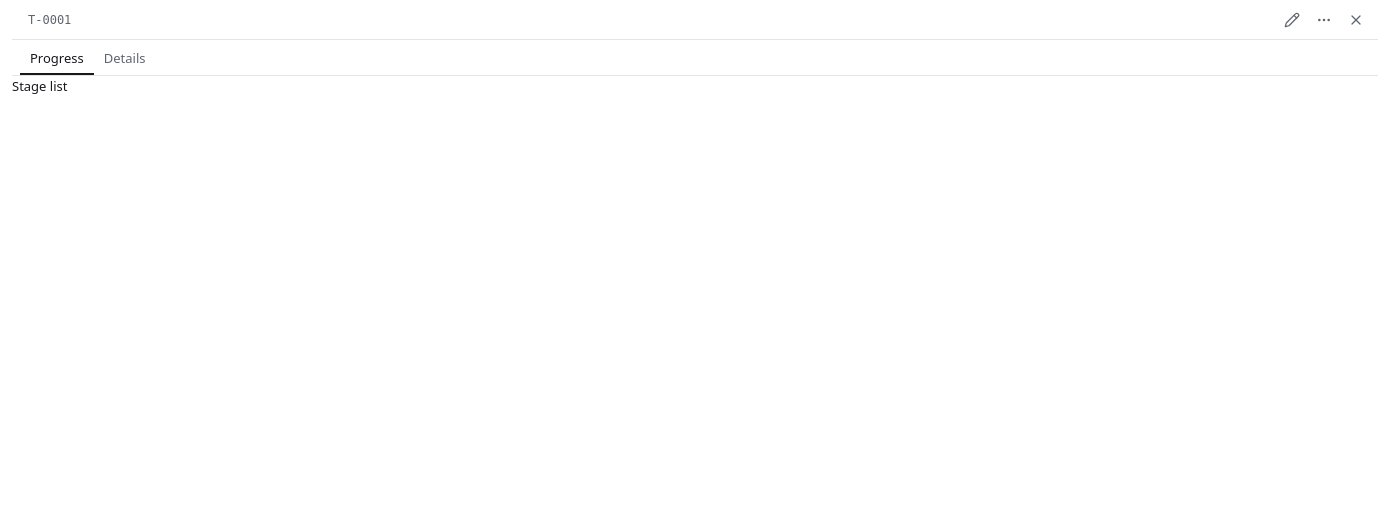
it: TaskDetail views › shows the edit form over the progress view
Click the button named "Edit" at {"x": 1292, "y": 20}, box [1278,6,1306,34]
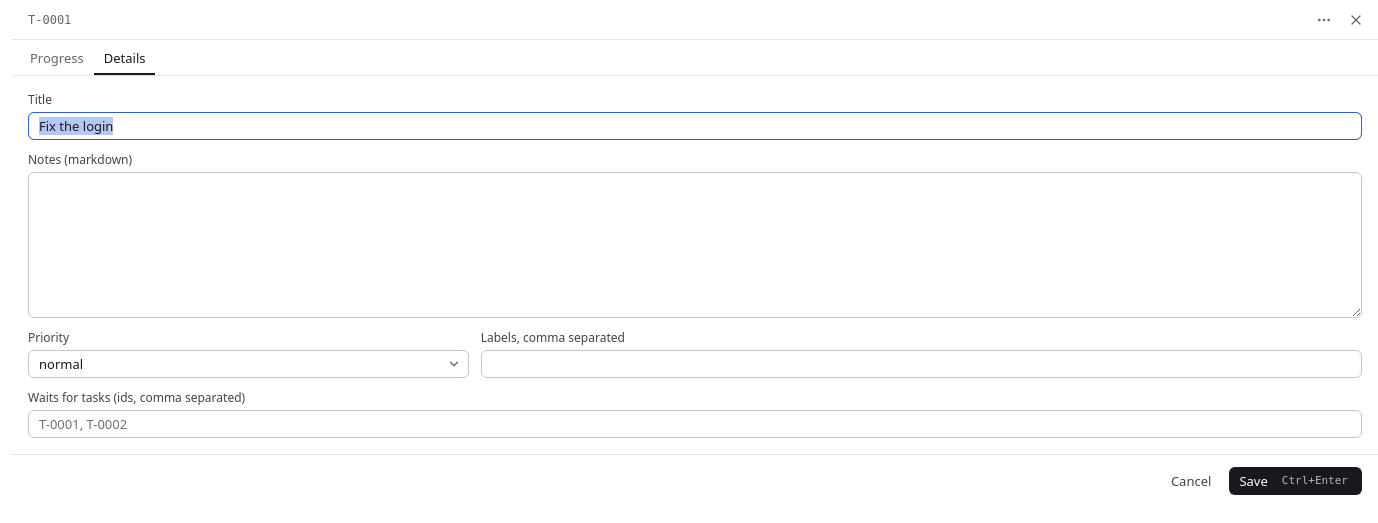
expect the form named "Edit T-0001" is shown: met
expect the text "Stage list" is gone: met
